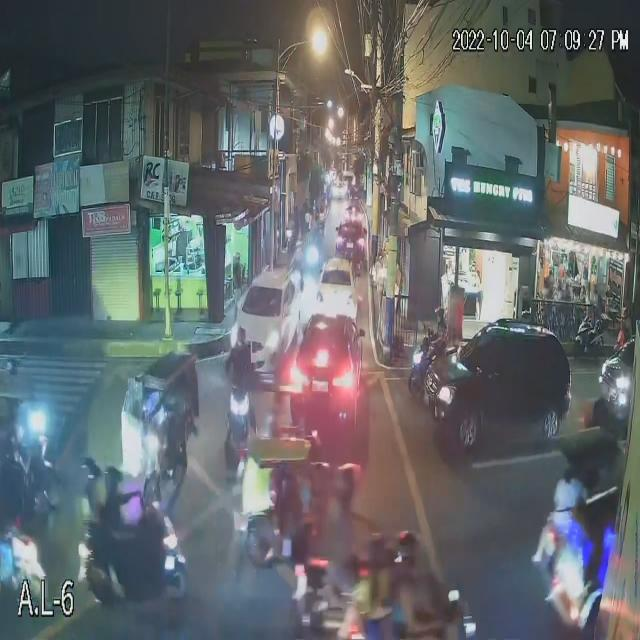helmet: (336, 463, 367, 500), (304, 461, 331, 496), (365, 532, 389, 564), (396, 525, 417, 560), (102, 465, 126, 495), (81, 456, 100, 490), (433, 306, 446, 323)
motorcycle: (77, 513, 191, 611), (353, 577, 480, 640), (290, 543, 367, 640), (405, 333, 452, 413), (225, 386, 255, 449)
rider: (330, 498, 361, 597), (402, 573, 437, 640), (305, 499, 329, 596), (105, 489, 130, 578), (224, 350, 257, 417), (81, 490, 108, 562), (375, 568, 401, 640), (436, 319, 449, 349)
